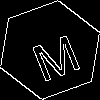M: (25, 25, 84, 83)
